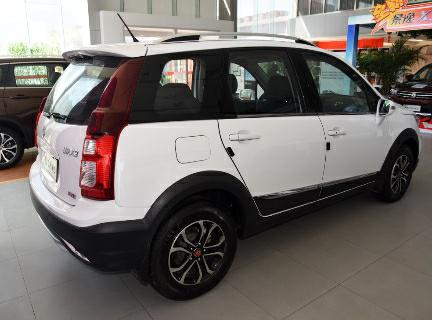东风风行-景逸X3: (25, 39, 423, 302)
